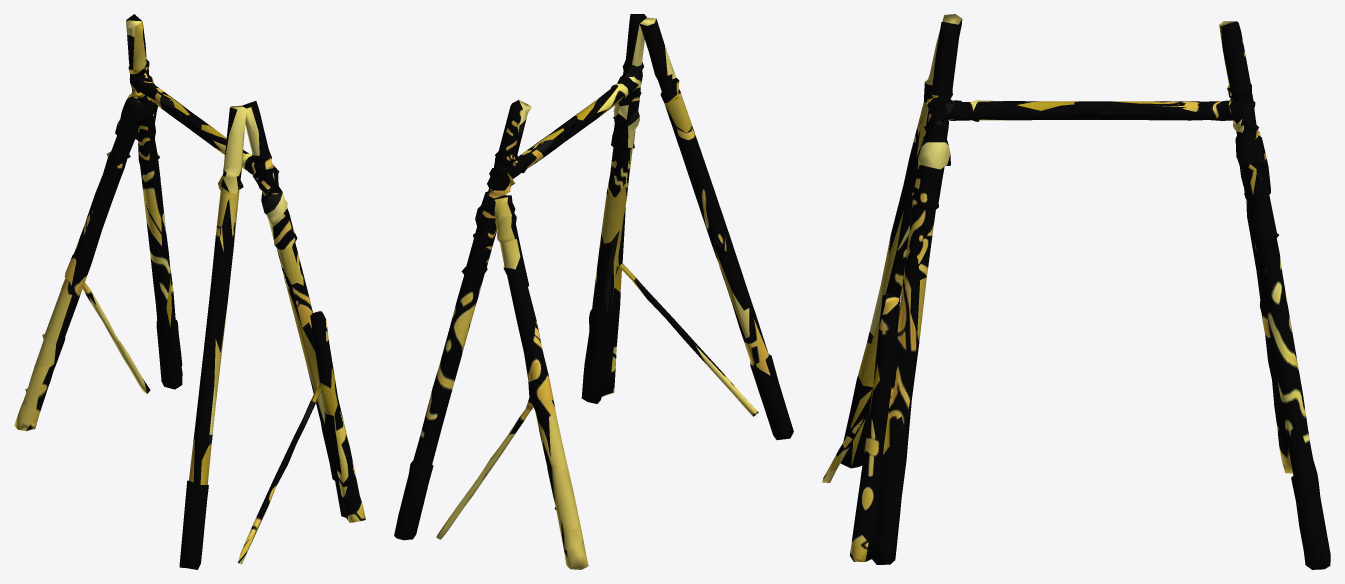
The model's file is ziplinepole.fbx.
3 renders of one model, left to right at view 1: azimuth 30°, elevation 25°; view 2: azimuth 150°, elevation 25°; view 3: azimuth 270°, elevation 25°, orthographic. The views are drawn at different scales.
Visible parts, largest first — view 1: tripo_node_48ca6e0e-fd85-42d8-805a-ed473a20b399; view 2: tripo_node_48ca6e0e-fd85-42d8-805a-ed473a20b399; view 3: tripo_node_48ca6e0e-fd85-42d8-805a-ed473a20b399.
Boxes of the visible parts, x1,y1,x2,y2 form: tripo_node_48ca6e0e-fd85-42d8-805a-ed473a20b399: (14,14,365,569); tripo_node_48ca6e0e-fd85-42d8-805a-ed473a20b399: (394,14,793,569); tripo_node_48ca6e0e-fd85-42d8-805a-ed473a20b399: (822,14,1330,569).
Size of the model in its own units: 47.64 by 98.27 by 90.18.
